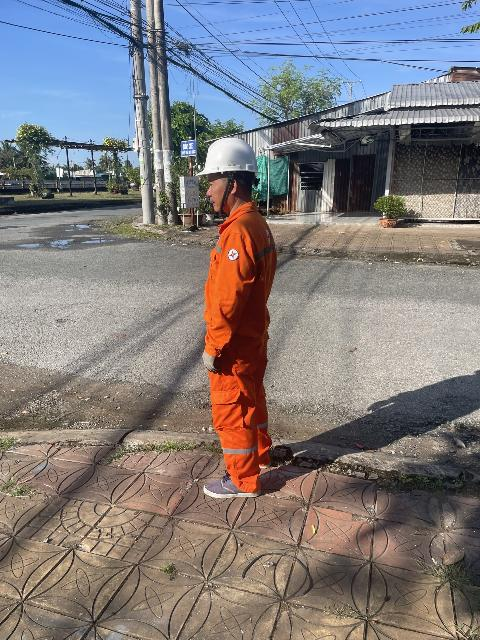gloves: (198, 337, 225, 382)
helmet: (183, 125, 268, 182)
shoes: (199, 475, 268, 504)
